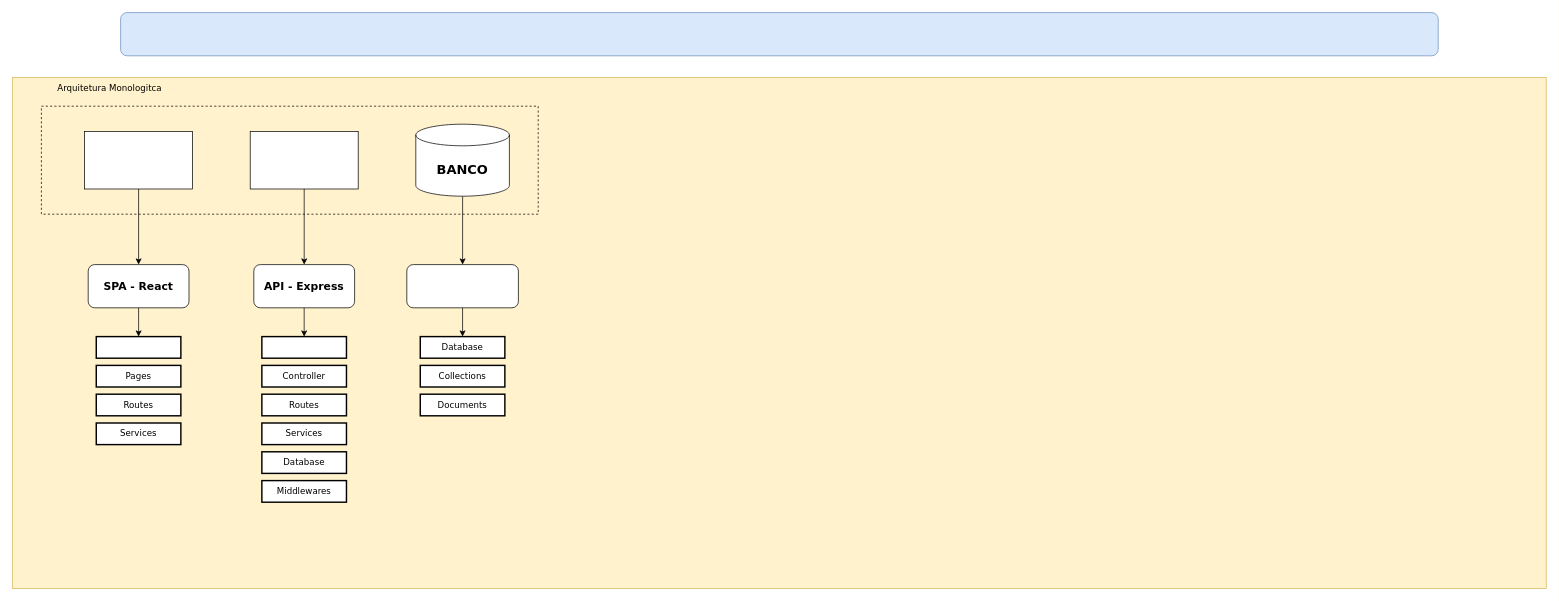
The diagram is 1559 pixels wide and 601 high, and some of its shapes have lost their labels. Here are the shapes that lost their labels. From the top down, the centre of each, then its label:
At [779,34]: "ARQUITETURA DA API WEB FINCASH".
At [138,160]: "USUARIO".
At [303,160]: "SERVIDOR".
At [462,286]: "MongoDB Atlas".
At [138,347]: "Components".
At [304,347]: "Models".
